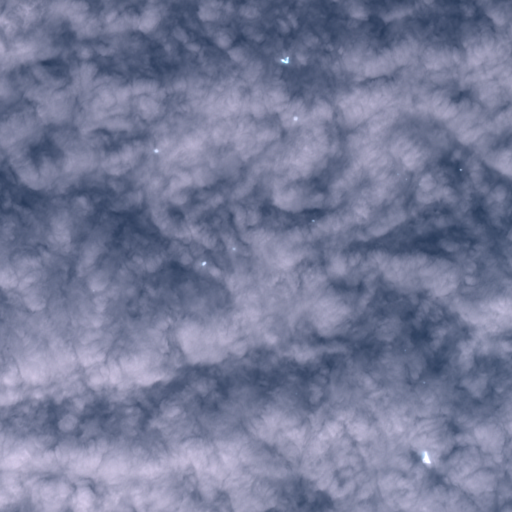Iceberg: (422, 451, 430, 463), (281, 56, 288, 63), (293, 116, 297, 120), (202, 261, 206, 265), (154, 149, 158, 152), (459, 168, 462, 170), (311, 219, 314, 221), (232, 247, 235, 249), (423, 382, 424, 383)
